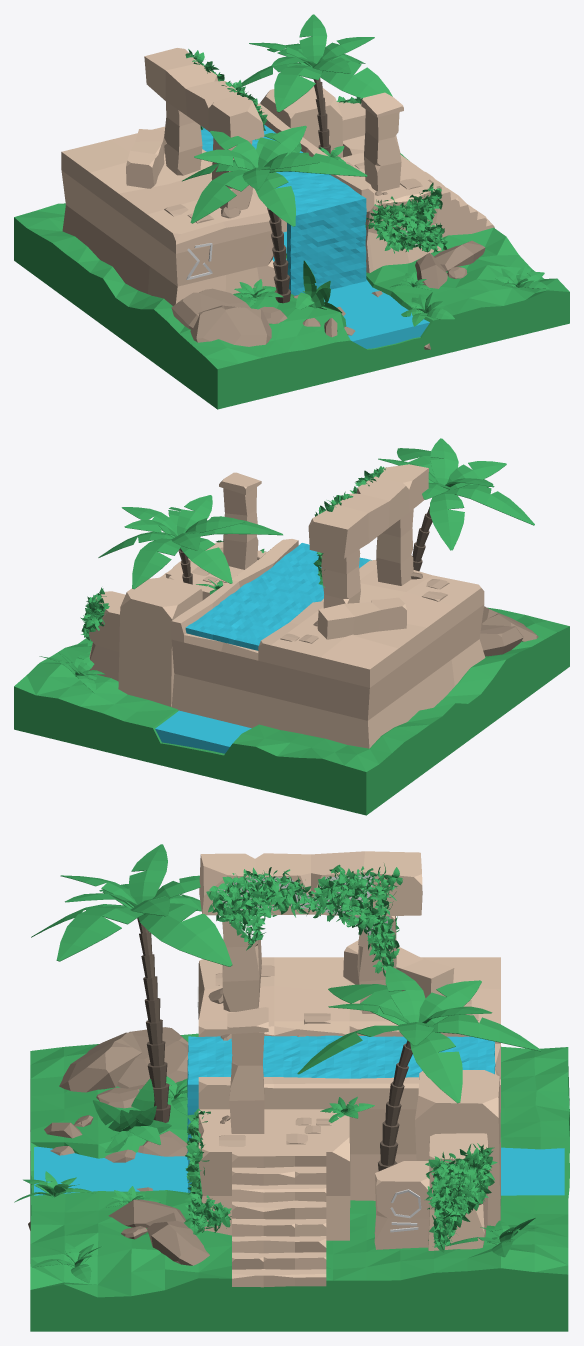
Rendered from 037-ancient-ruins-night.fbx.
3 views of the same model, one above another, from view 1: azimuth 30°, elevation 25°; view 2: azimuth 150°, elevation 25°; view 3: azimuth 270°, elevation 25° (orthographic). The views are drawn at different scales.
Parts seen in each view (by area): view 1: Ground, Ruin, Water, Column.004, Water.001, Column.001, Rock.001, Ruin.001, Column.003, Stairs, Column, Rock (+17 smaller); view 2: Ruin, Ground, Water, Ruin.001, Column.004, Column, Column.001, Water.001, Column.002, Ruin.002, Column.003, Leaf.014 (+14 smaller); view 3: Ground, Ruin, Stairs, Water, Water.001, Column.004, Ruin.001, Column.001, Ruin.003, Leaf.013, Rock.001, Ruin.002 (+21 smaller).
Boxes of the visible parts, x1=… form: Ground: x1=14, y1=153, x2=569, y2=409; Ruin: x1=61, y1=103, x2=441, y2=305; Water: x1=201, y1=125, x2=366, y2=295; Column.004: x1=144, y1=48, x2=264, y2=141; Water.001: x1=272, y1=231, x2=429, y2=348; Column.001: x1=361, y1=92, x2=403, y2=191; Rock.001: x1=190, y1=305, x2=271, y2=346; Ruin.001: x1=260, y1=86, x2=342, y2=157; Column.003: x1=164, y1=101, x2=202, y2=175; Stairs: x1=400, y1=155, x2=494, y2=237; Column: x1=126, y1=129, x2=166, y2=188; Rock: x1=171, y1=288, x2=250, y2=329; Ruin: x1=168, y1=539, x2=485, y2=748; Ground: x1=14, y1=607, x2=569, y2=815; Water: x1=185, y1=543, x2=371, y2=650; Ruin.001: x1=118, y1=577, x2=202, y2=706; Column.004: x1=308, y1=464, x2=428, y2=558; Column: x1=317, y1=597, x2=406, y2=639; Column.001: x1=219, y1=472, x2=261, y2=569; Water.001: x1=155, y1=710, x2=251, y2=753; Column.002: x1=376, y1=509, x2=413, y2=585; Ruin.002: x1=89, y1=591, x2=125, y2=681; Column.003: x1=321, y1=549, x2=360, y2=608; Leaf.014: x1=429, y1=491, x2=464, y2=550; Ground: x1=30, y1=1033, x2=569, y2=1331; Ruin: x1=198, y1=957, x2=500, y2=1240; Stairs: x1=232, y1=1152, x2=326, y2=1287; Water: x1=187, y1=1035, x2=495, y2=1192; Water.001: x1=34, y1=1146, x2=564, y2=1195; Column.004: x1=199, y1=851, x2=422, y2=916; Ruin.001: x1=415, y1=1070, x2=500, y2=1226; Column.001: x1=227, y1=1007, x2=268, y2=1133; Ruin.003: x1=374, y1=1161, x2=429, y2=1249; Leaf.013: x1=138, y1=903, x2=232, y2=966; Rock.001: x1=59, y1=1032, x2=141, y2=1092; Ruin.002: x1=428, y1=1133, x2=488, y2=1250.
Size of what is drawn, in the model's own units: 8.04 by 5.53 by 8.27.
